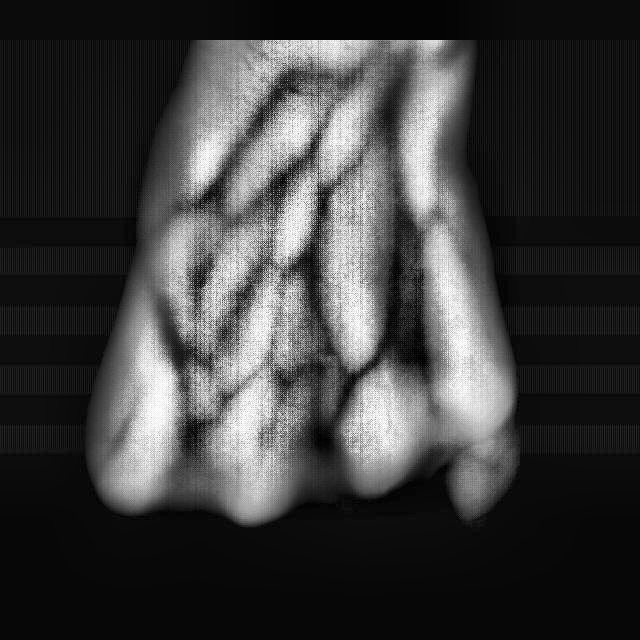Vein: (377, 136, 408, 327)
